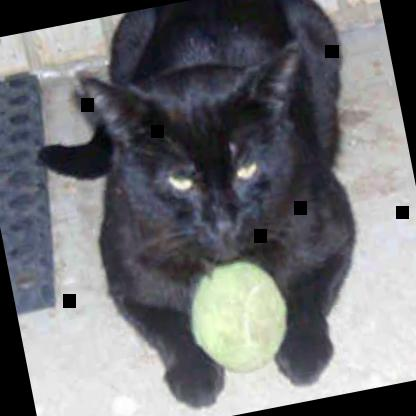cat: (13, 0, 405, 415)
